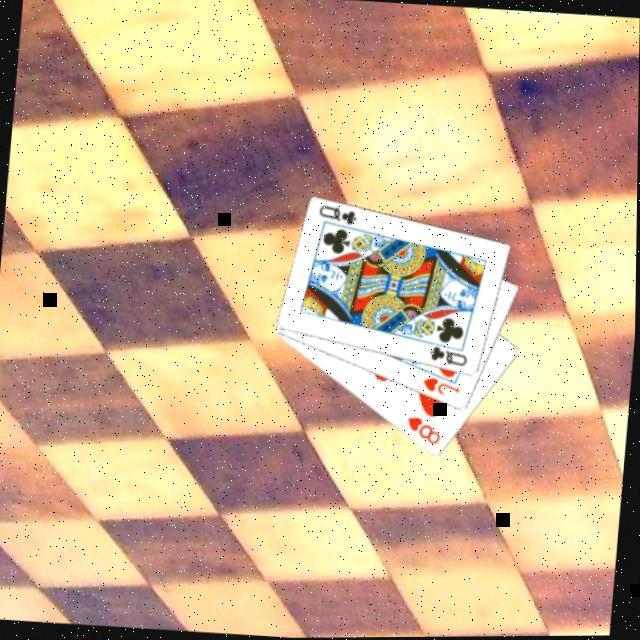8H: (400, 414, 444, 449)
JH: (418, 374, 462, 400)
QC: (424, 344, 470, 372), (312, 203, 358, 230)
